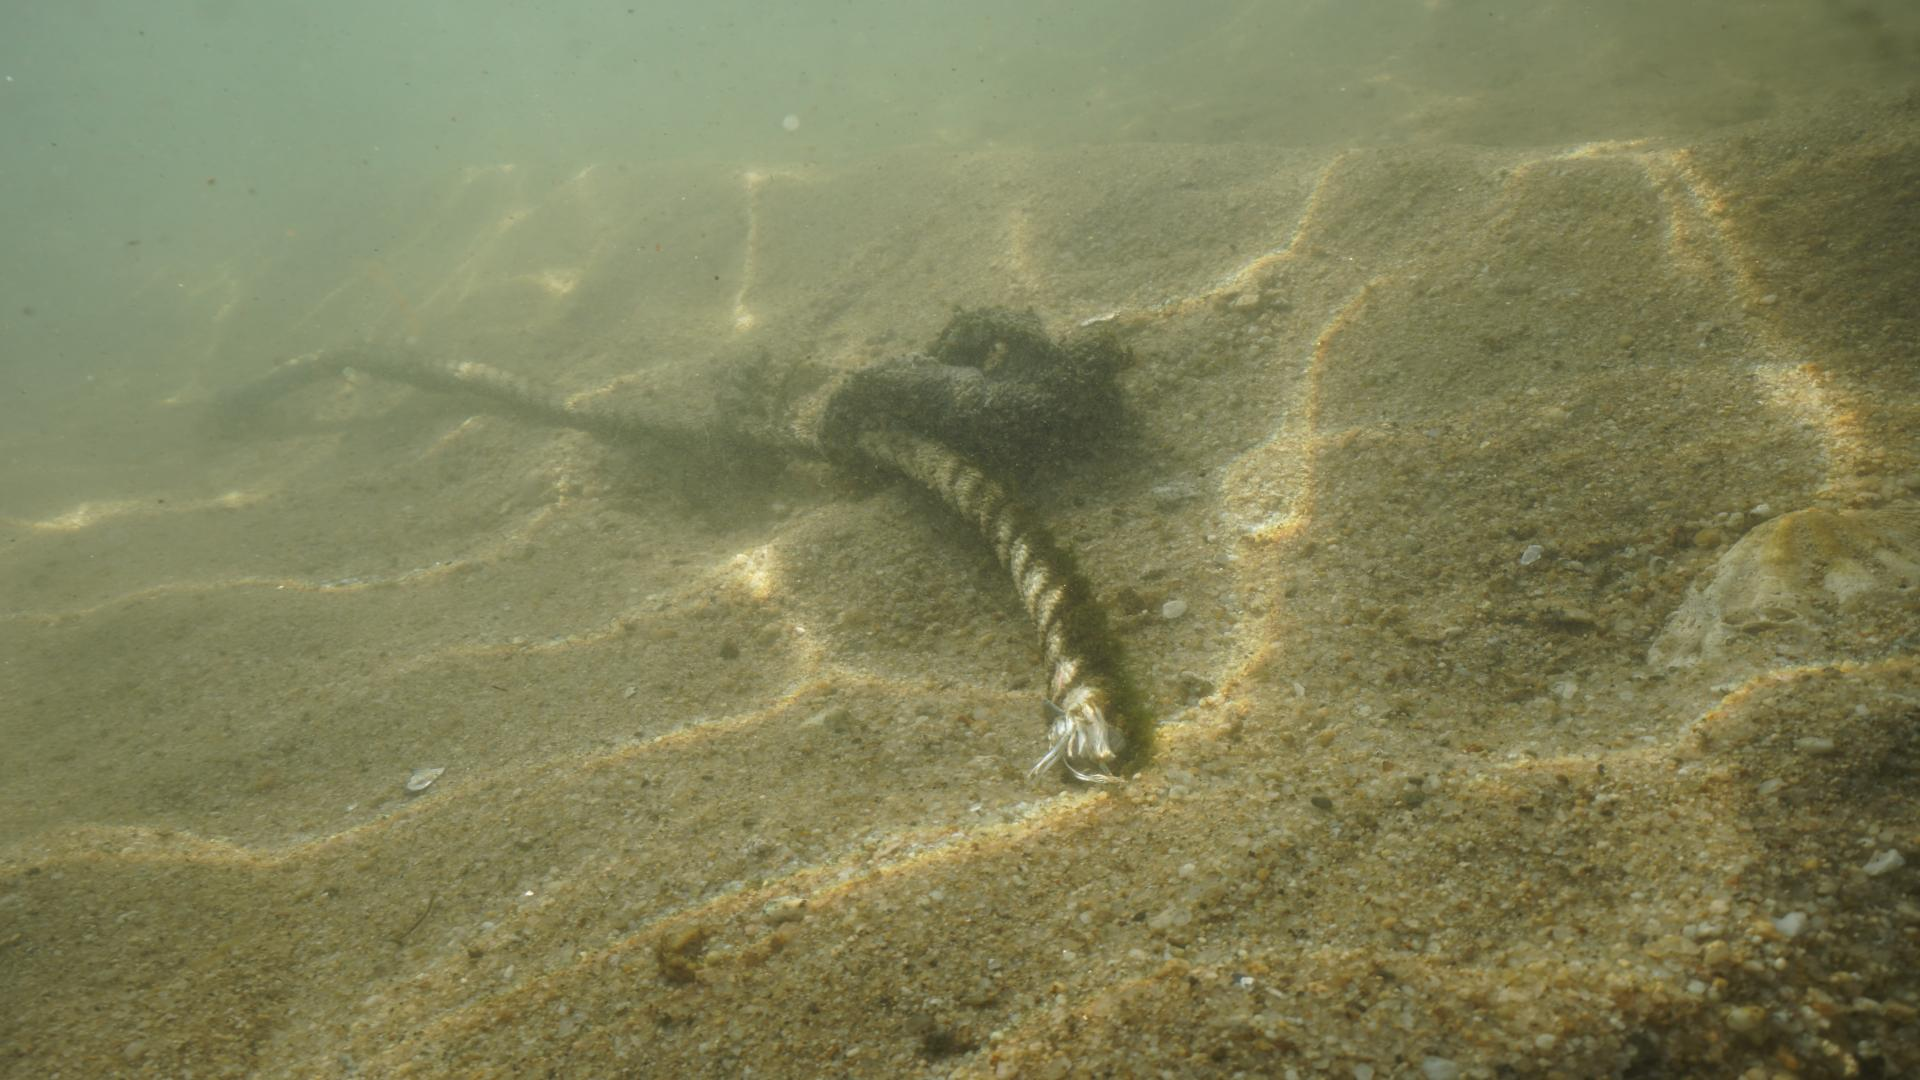rope: (167, 338, 1113, 702)
